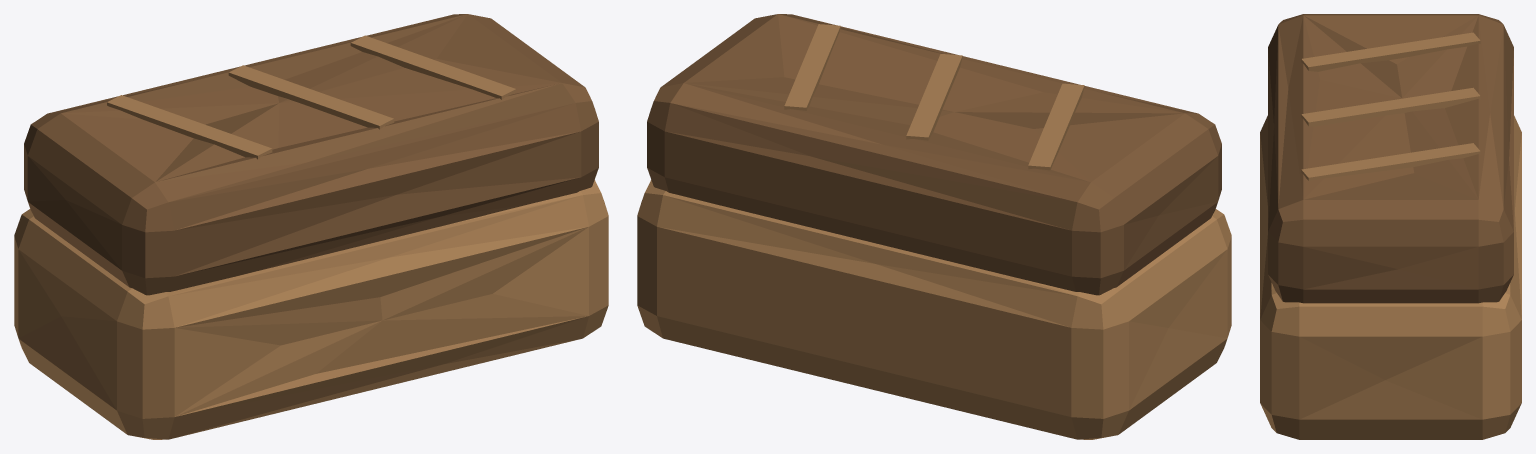
The model's file is food_bread_hleb_idle.glb.
The picture shows the model from 3 angles, left to right: view 1: azimuth 30°, elevation 25°; view 2: azimuth 150°, elevation 25°; view 3: azimuth 270°, elevation 25°; orthographic projection. The views are drawn at different scales.
Parts seen in each view (by area): view 1: food_bread_hleb_idle; view 2: food_bread_hleb_idle; view 3: food_bread_hleb_idle.
Boxes of the visible parts, x1=… form: food_bread_hleb_idle: x1=14, y1=14, x2=608, y2=439; food_bread_hleb_idle: x1=637, y1=14, x2=1231, y2=439; food_bread_hleb_idle: x1=1260, y1=14, x2=1521, y2=439.
Bounding box in the file's own units: 0.2 × 0.101 × 0.1.
Materials: 1 (1 with a texture image).
